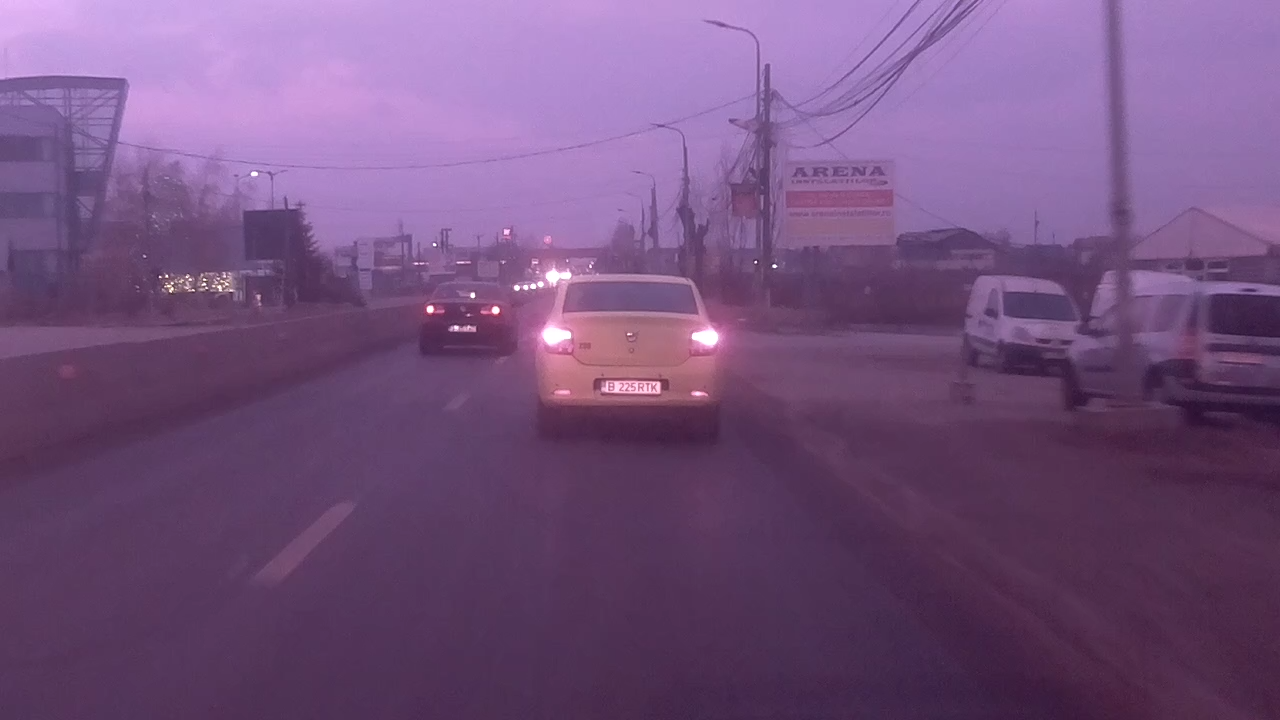license-plate: (595, 378, 666, 397), (446, 324, 478, 333)
